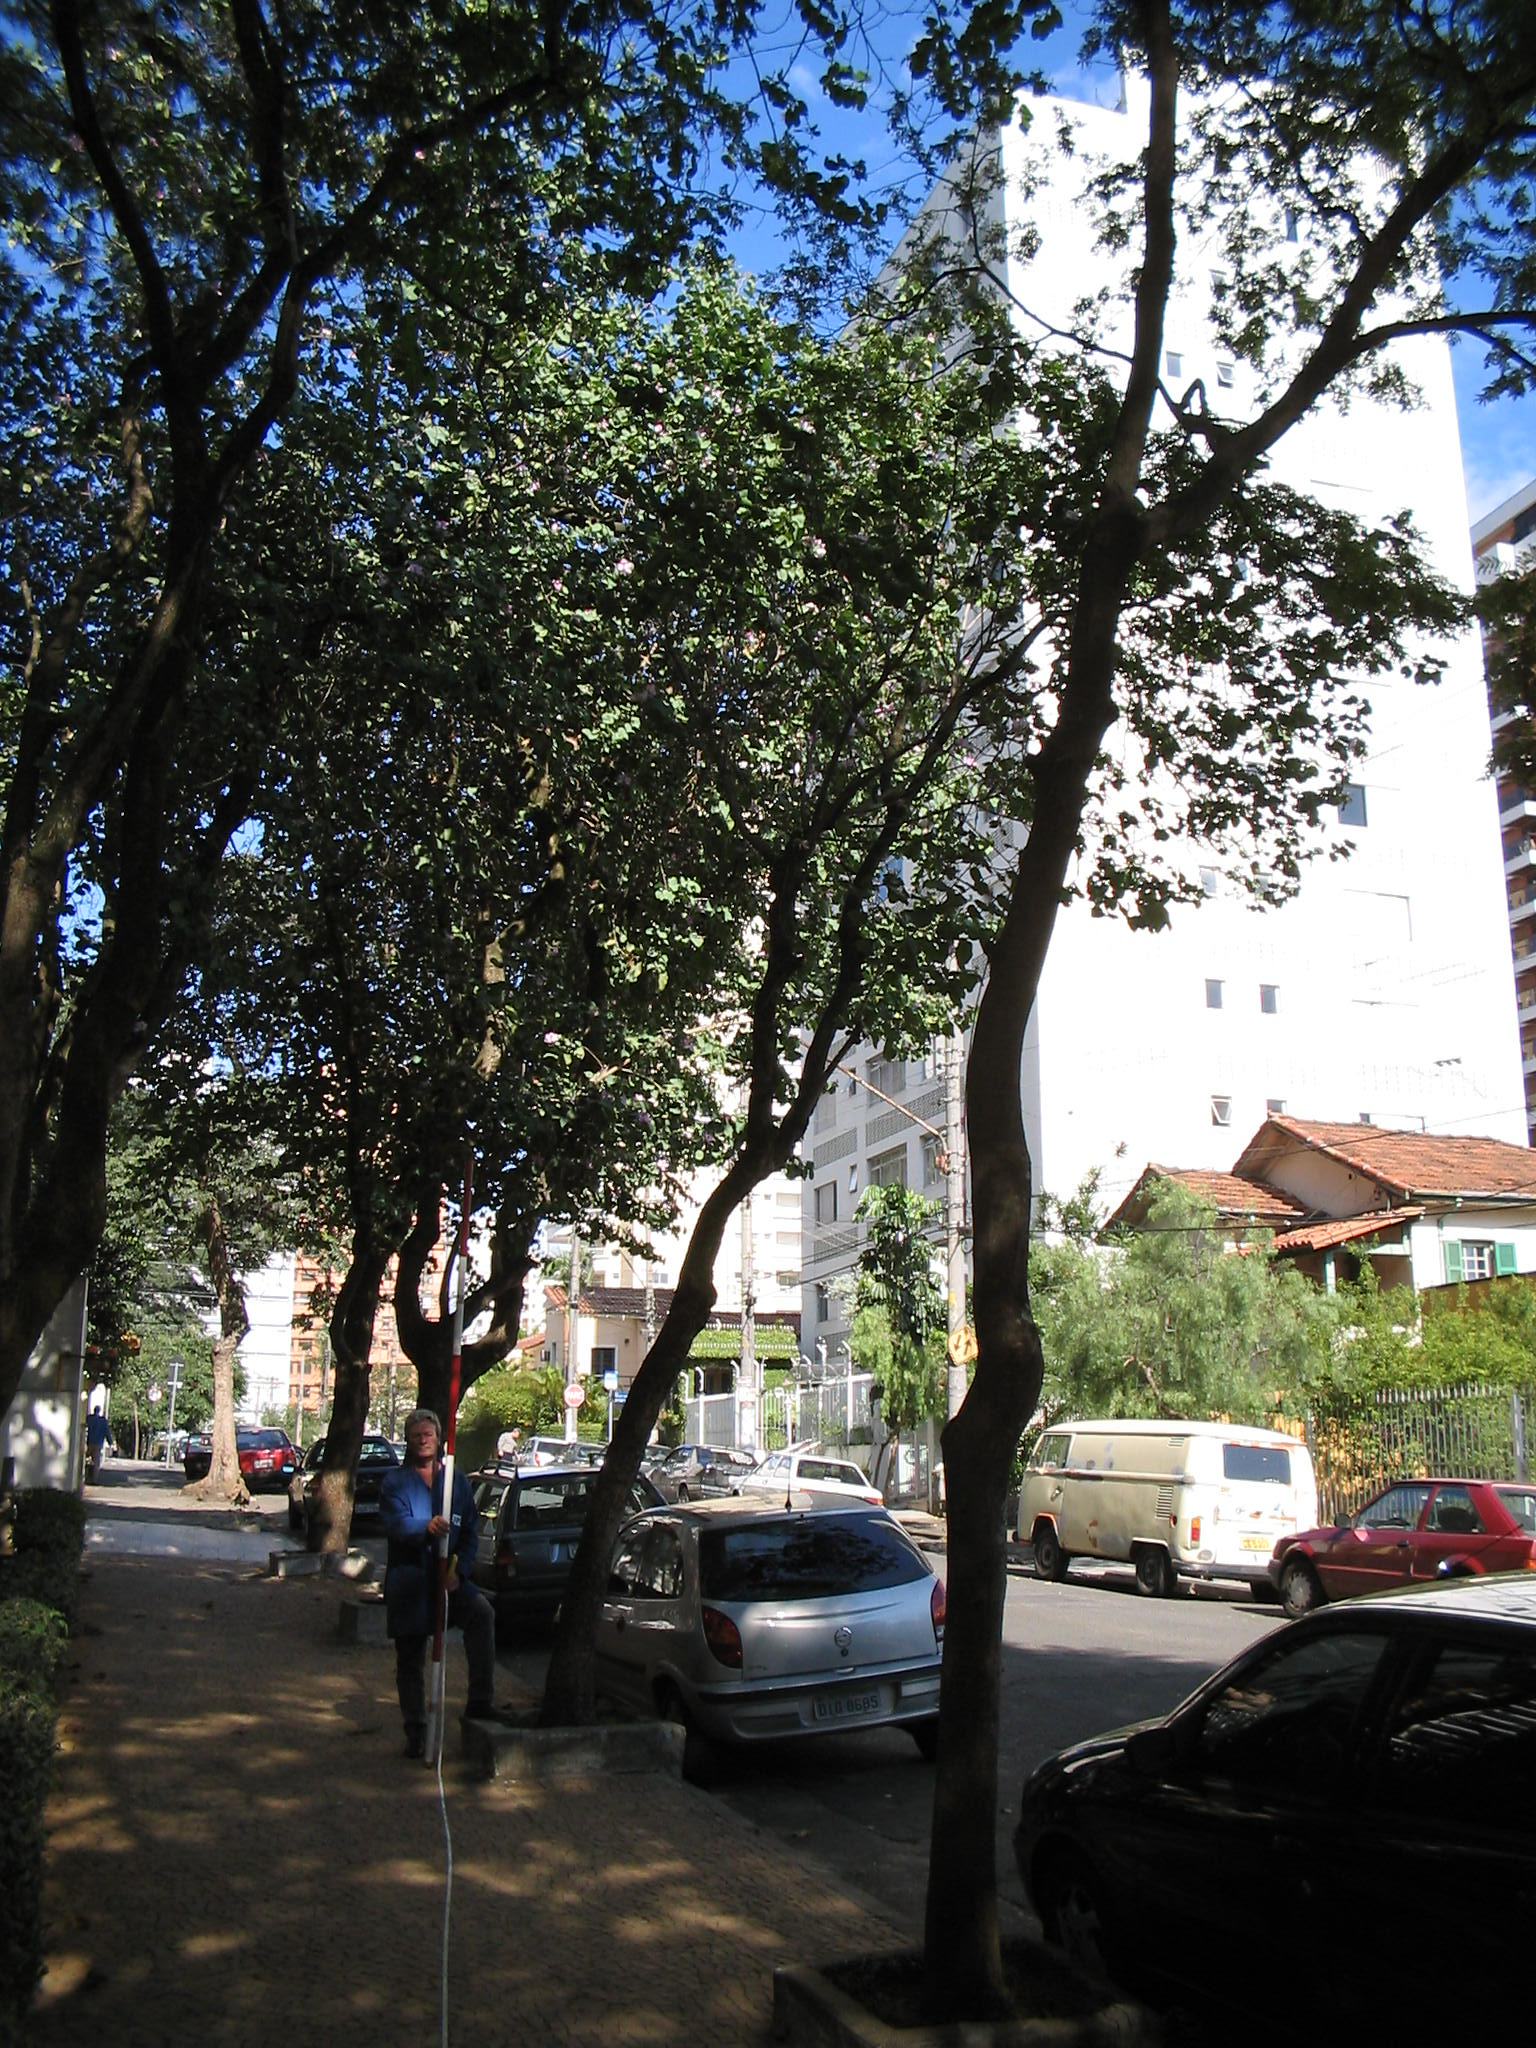stem: (892, 885, 1092, 2013), (544, 1164, 771, 1727), (302, 1364, 378, 1556)
stick: (415, 1138, 499, 1771)
